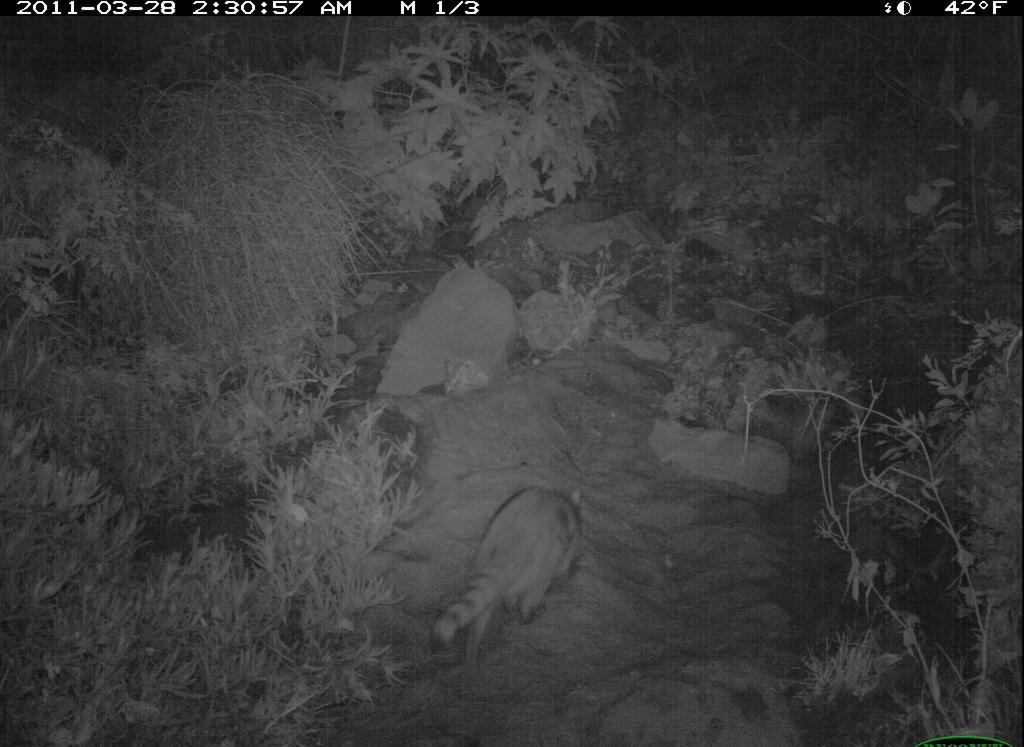raccoon: (427, 469, 601, 670)
